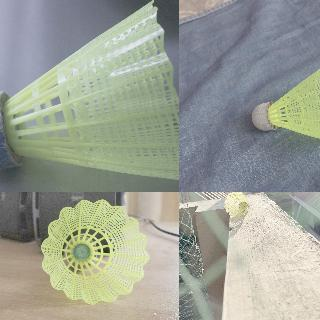shuttlecock: (0, 0, 178, 184), (42, 198, 148, 304), (252, 68, 319, 144), (223, 192, 249, 217)
